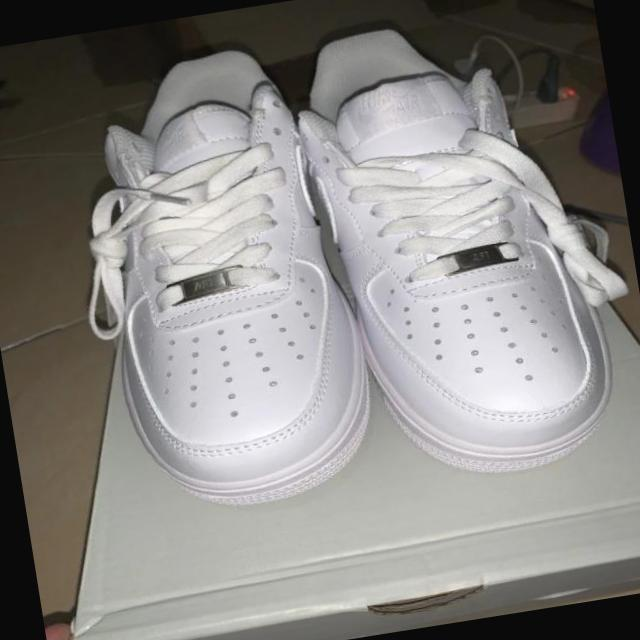nike_original_airforce: (282, 0, 625, 495), (65, 37, 384, 526)
